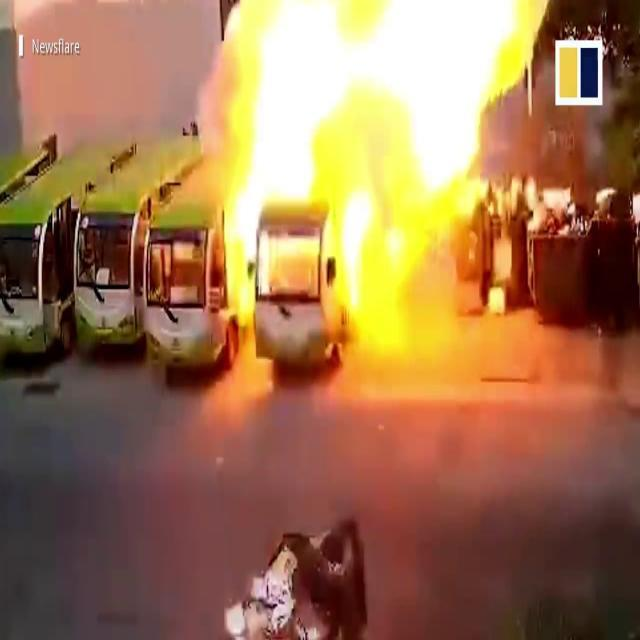Fire: (190, 2, 534, 338)
